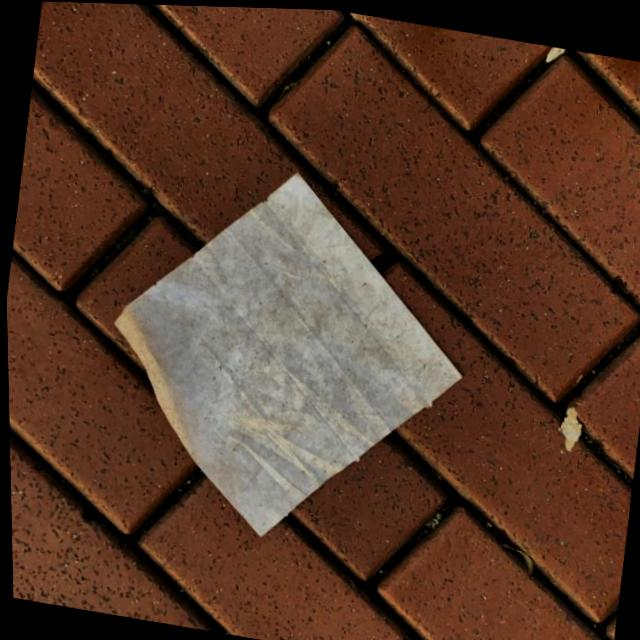Paper: (82, 142, 490, 568)
